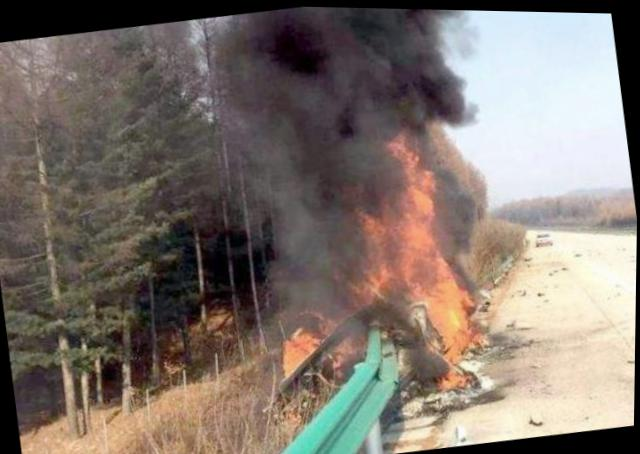fire: (251, 127, 502, 410)
